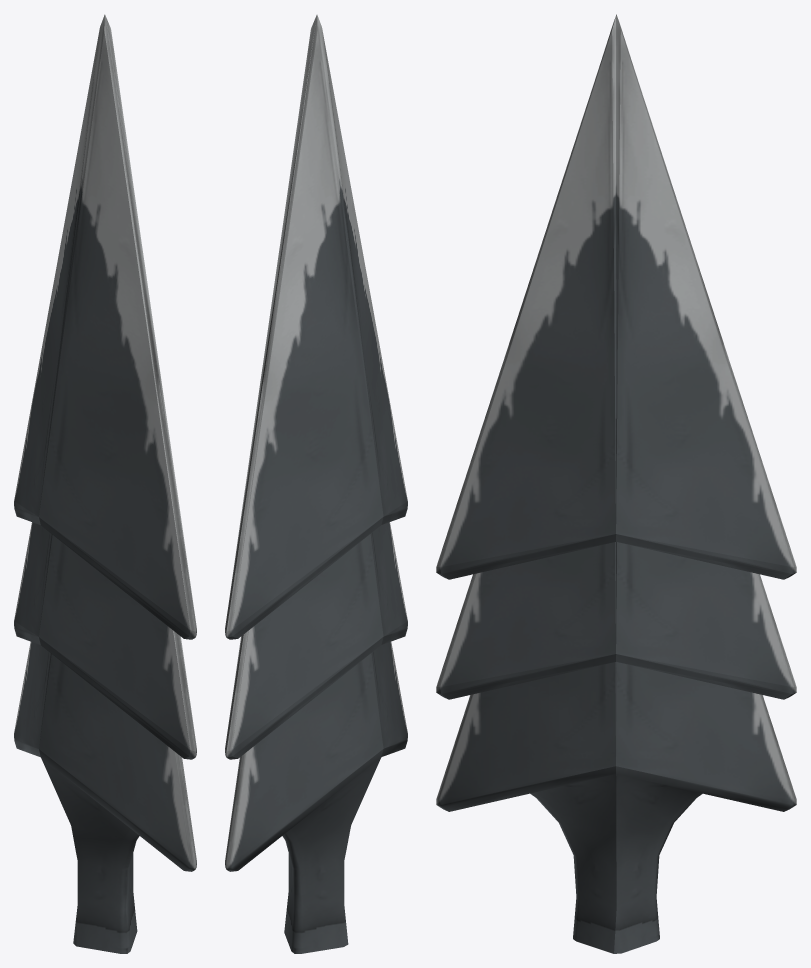
File: arrow_head_beetle.FBX
The picture shows the model from 3 angles, left to right: view 1: azimuth 30°, elevation 25°; view 2: azimuth 150°, elevation 25°; view 3: azimuth 270°, elevation 25°; orthographic projection.
Visible parts, largest first — view 1: arrow_head; view 2: arrow_head; view 3: arrow_head.
Boxes of the visible parts, box(x1,y1,x2,y2) form: arrow_head: box(14, 14, 196, 953); arrow_head: box(225, 14, 407, 953); arrow_head: box(436, 14, 796, 953).
Size of the model in its own units: 0.2019 by 1.33 by 0.471.
